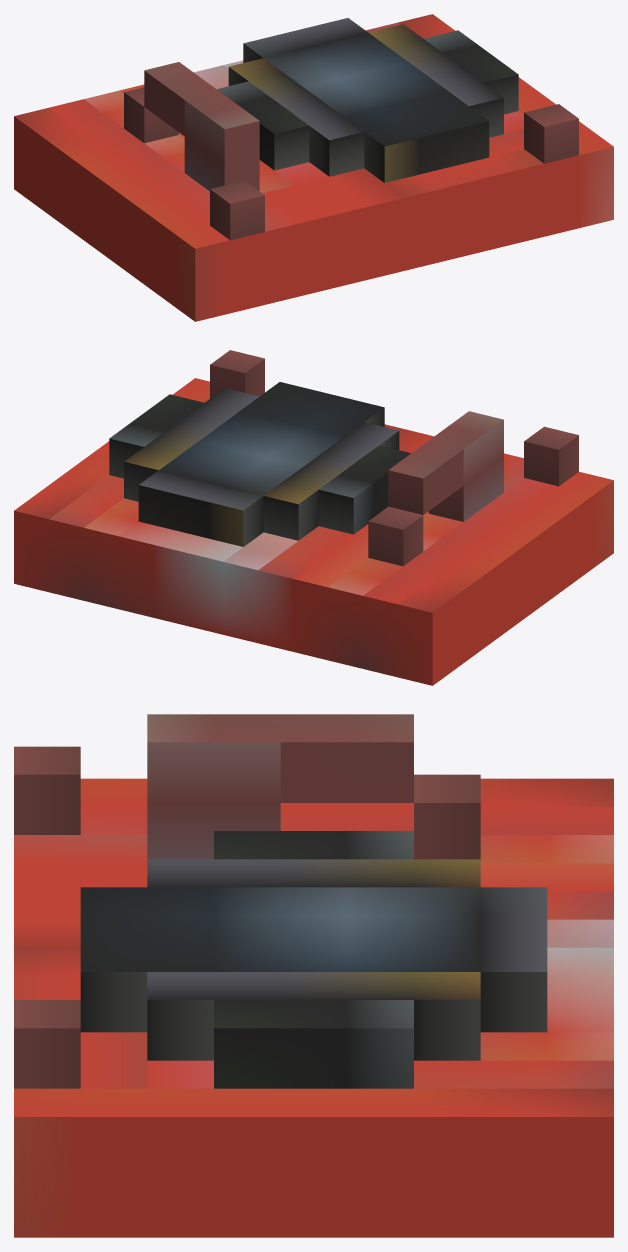
Rendered from RecordPlayer_00.obj.
The picture shows the model from 3 angles, top to bottom: view 1: azimuth 30°, elevation 25°; view 2: azimuth 150°, elevation 25°; view 3: azimuth 270°, elevation 25°; orthographic projection. The views are drawn at different scales.
Parts seen in each view (by area): view 1: RecordPlayer_00; view 2: RecordPlayer_00; view 3: RecordPlayer_00.
Part boxes in pixels (left/top/right/bottom): RecordPlayer_00: left=14, top=14, right=613, bottom=321; RecordPlayer_00: left=14, top=350, right=613, bottom=685; RecordPlayer_00: left=14, top=714, right=613, bottom=1237.
Bounding box in the file's own units: 0.6 × 0.2 × 0.45.
